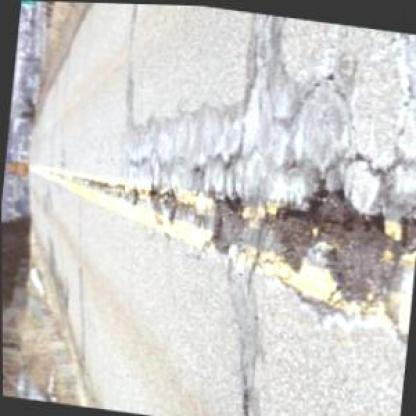pothole: (264, 173, 414, 301), (204, 187, 247, 254)
